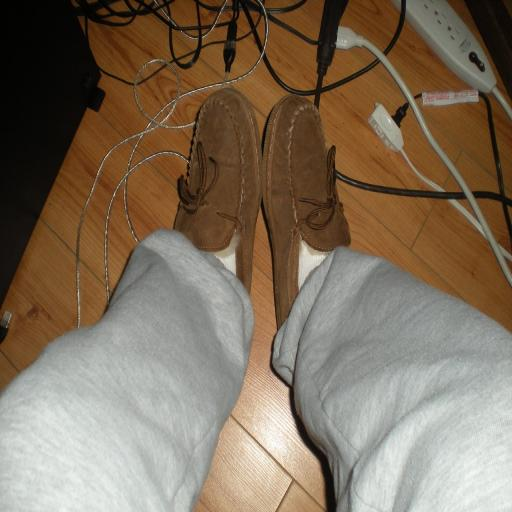shoe: (262, 95, 350, 328), (174, 88, 262, 291)
